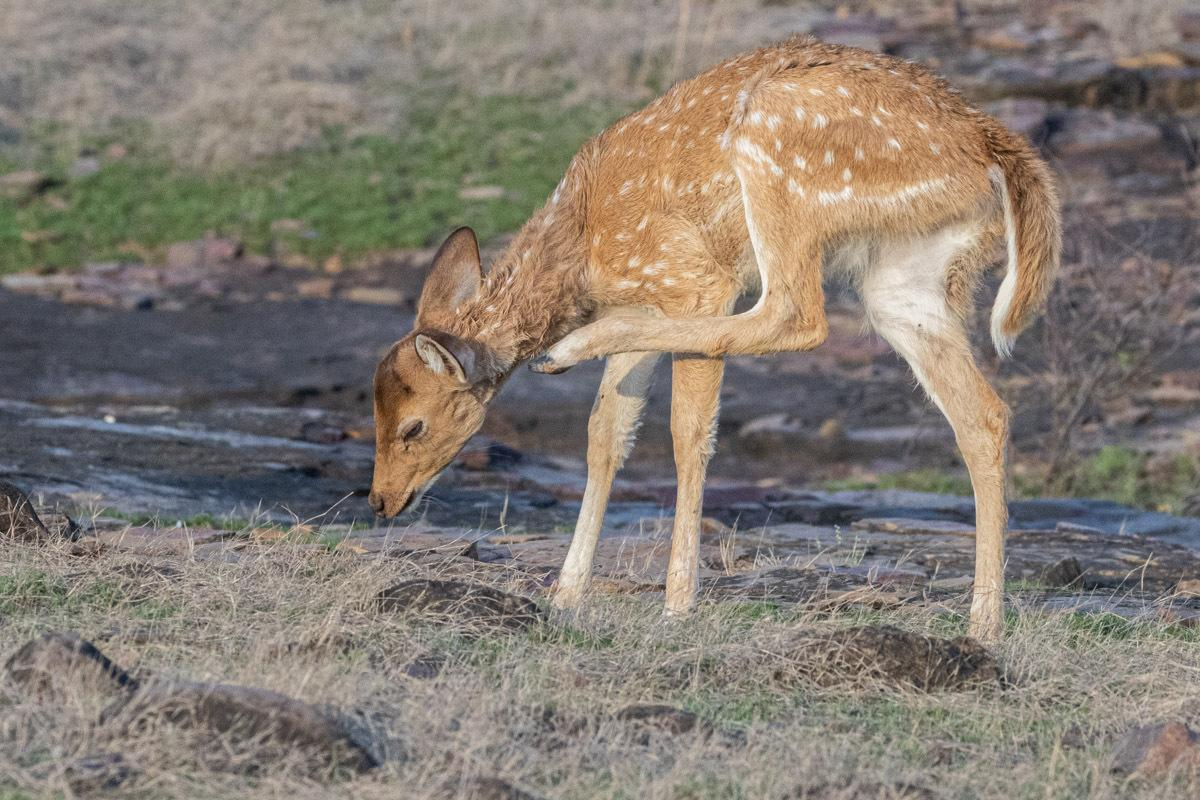Deer: (370, 37, 1060, 639)
